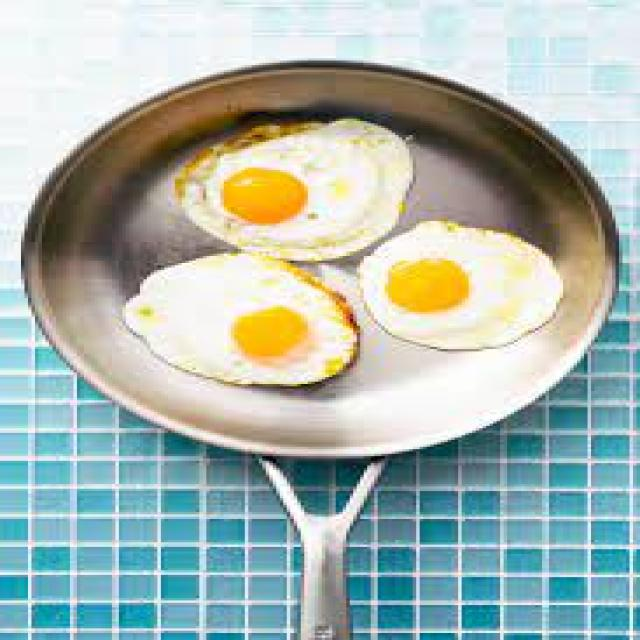Egg: (173, 119, 413, 261), (122, 254, 359, 386), (359, 221, 560, 349)
